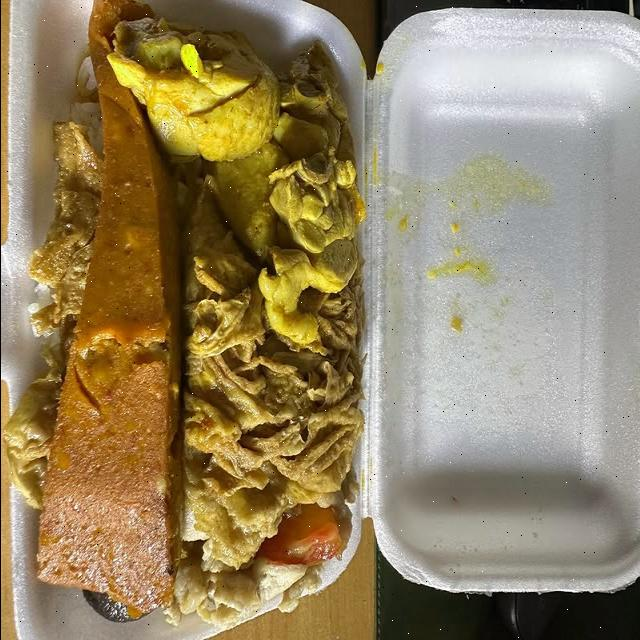Chicken: (106, 19, 364, 345)
Fish: (37, 0, 180, 616)
